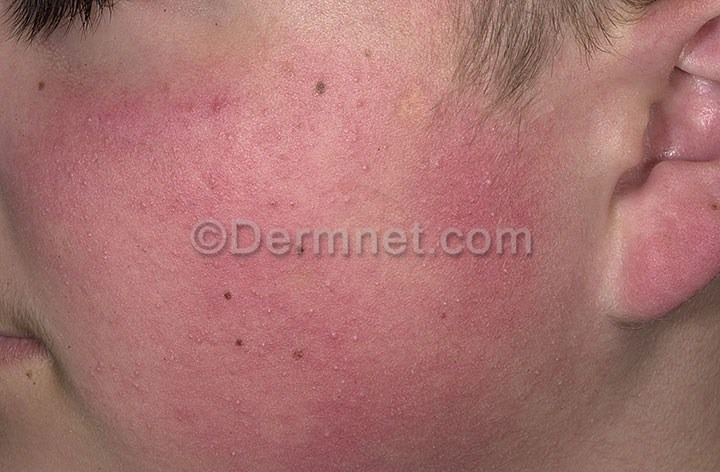Eczema: (12, 62, 595, 472), (612, 165, 720, 312)
